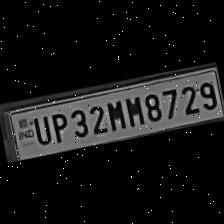2: (175, 81, 201, 116), (84, 99, 109, 135)
3: (64, 103, 90, 139)
7: (157, 83, 181, 119)
8: (139, 88, 164, 123)
9: (194, 76, 218, 111)
M: (102, 95, 127, 132), (122, 92, 146, 128)
P: (46, 106, 70, 142)
U: (28, 111, 51, 145)
